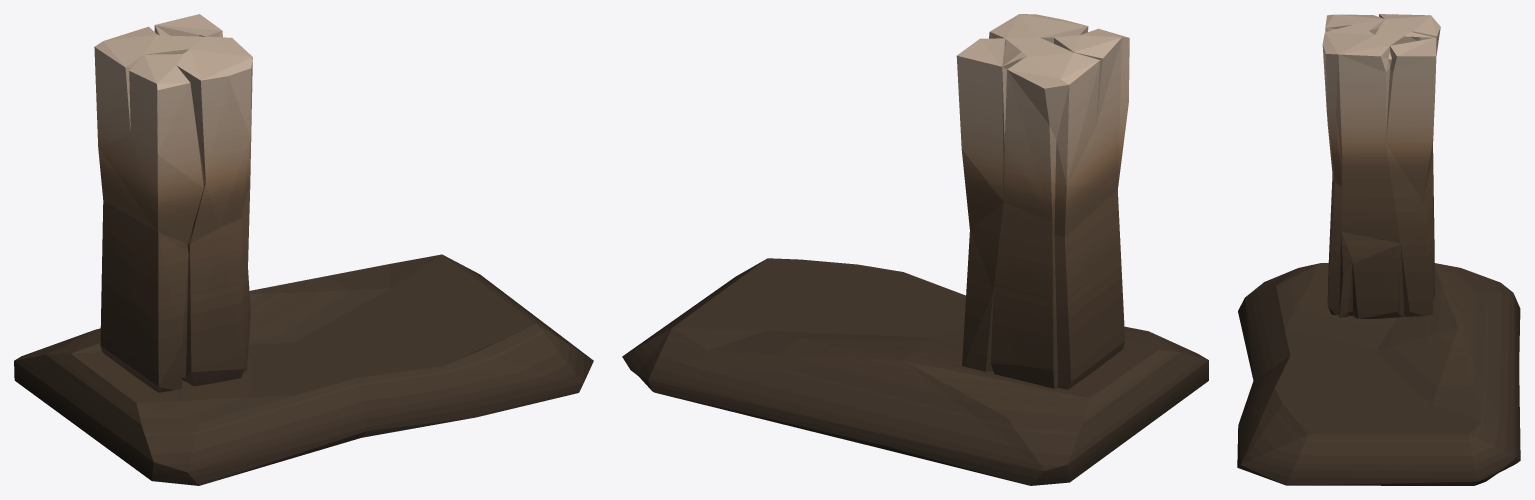
File: EA_Grave_Mud_Post_01a.glb
3 views of the same model, side by side, from view 1: azimuth 30°, elevation 25°; view 2: azimuth 150°, elevation 25°; view 3: azimuth 270°, elevation 25° (orthographic). The views are drawn at different scales.
Parts seen in each view (by area): view 1: EA_Grave_Mud_Post_01a; view 2: EA_Grave_Mud_Post_01a; view 3: EA_Grave_Mud_Post_01a.
Part boxes in pixels (bbox=[...]): EA_Grave_Mud_Post_01a: bbox=[14, 14, 593, 485]; EA_Grave_Mud_Post_01a: bbox=[622, 14, 1208, 485]; EA_Grave_Mud_Post_01a: bbox=[1237, 14, 1520, 485].
Size of the model in its own units: 2.78 by 2.11 by 1.77.
1 material, 1 textured.
